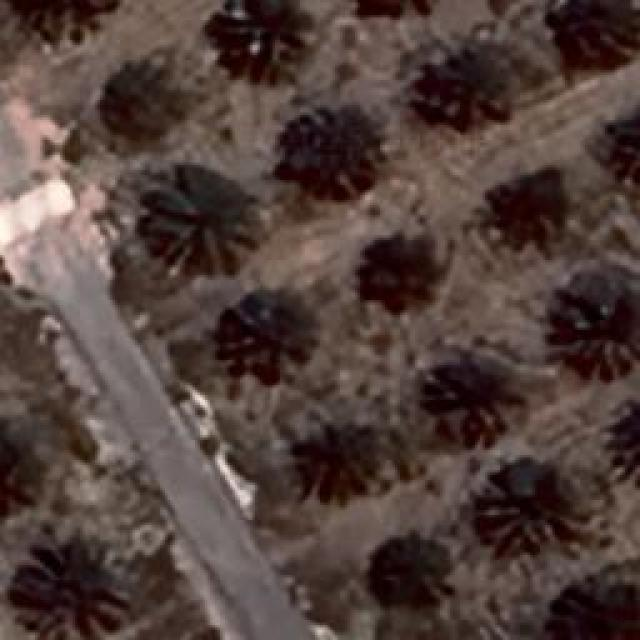PalmTree: (20, 96, 87, 466), (9, 538, 132, 638), (147, 172, 260, 272), (285, 105, 383, 190), (418, 54, 512, 138), (226, 288, 316, 374), (560, 282, 638, 372), (425, 366, 513, 442), (476, 464, 566, 538), (314, 424, 392, 502), (496, 170, 576, 242), (220, 0, 312, 60), (358, 244, 442, 306), (562, 575, 640, 640), (544, 0, 634, 55), (368, 528, 438, 596), (9, 0, 115, 36), (605, 116, 640, 194), (613, 396, 640, 485), (87, 65, 144, 99), (350, 0, 446, 19), (621, 396, 640, 484), (352, 0, 448, 15)
